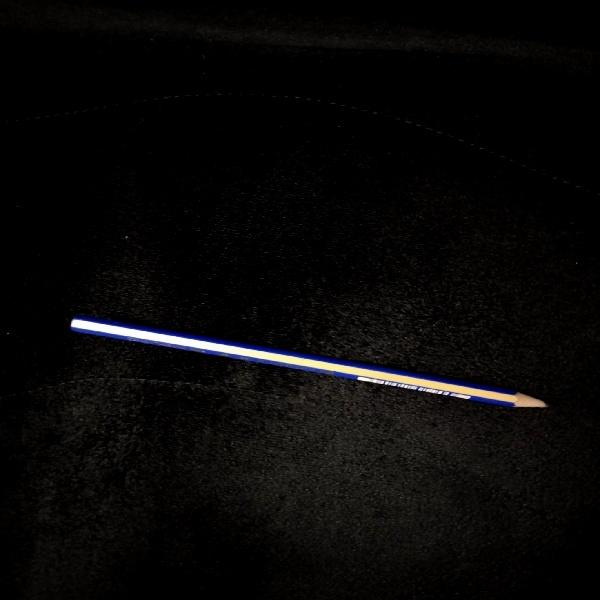pencil: (68, 309, 558, 414)
